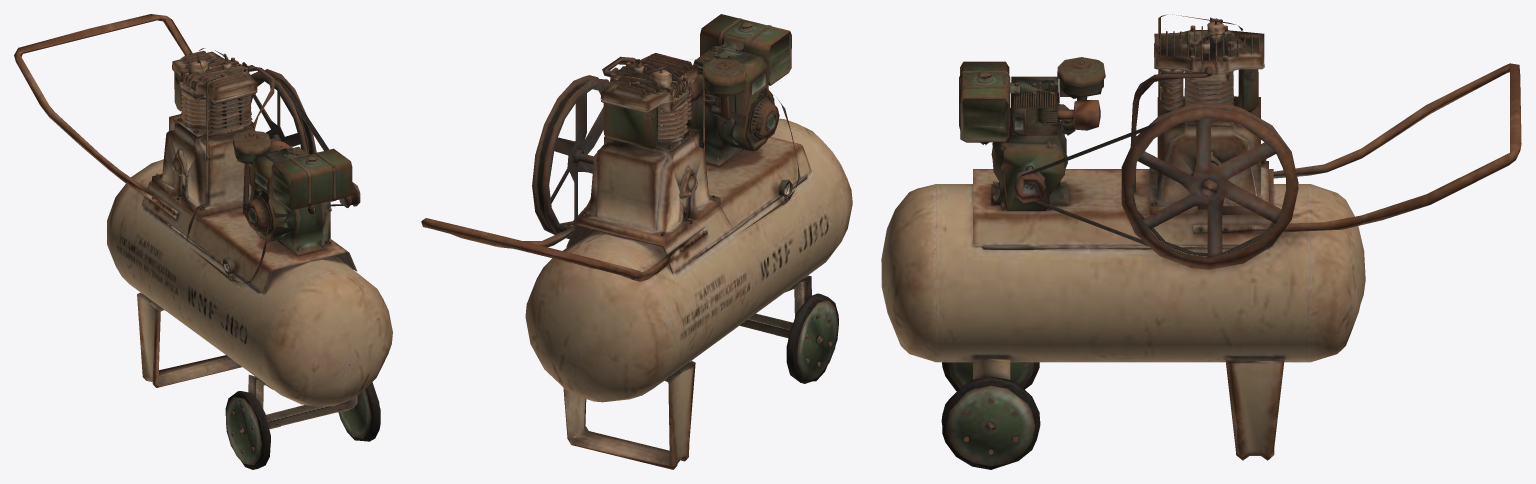
The model's file is old_military_compressor.glb.
The picture shows the model from 3 angles, left to right: view 1: azimuth 30°, elevation 25°; view 2: azimuth 150°, elevation 25°; view 3: azimuth 270°, elevation 25°; orthographic projection. The views are drawn at different scales.
Visible parts, largest first — view 1: old_military_compressor; view 2: old_military_compressor; view 3: old_military_compressor.
Boxes of the visible parts, x1,y1,x2,y2 form: old_military_compressor: (14,14,392,469); old_military_compressor: (421,14,852,469); old_military_compressor: (881,14,1521,469).
Bounding box in the file's own units: 0.5957 × 1.18 × 1.67.
2 materials, 2 textured.
